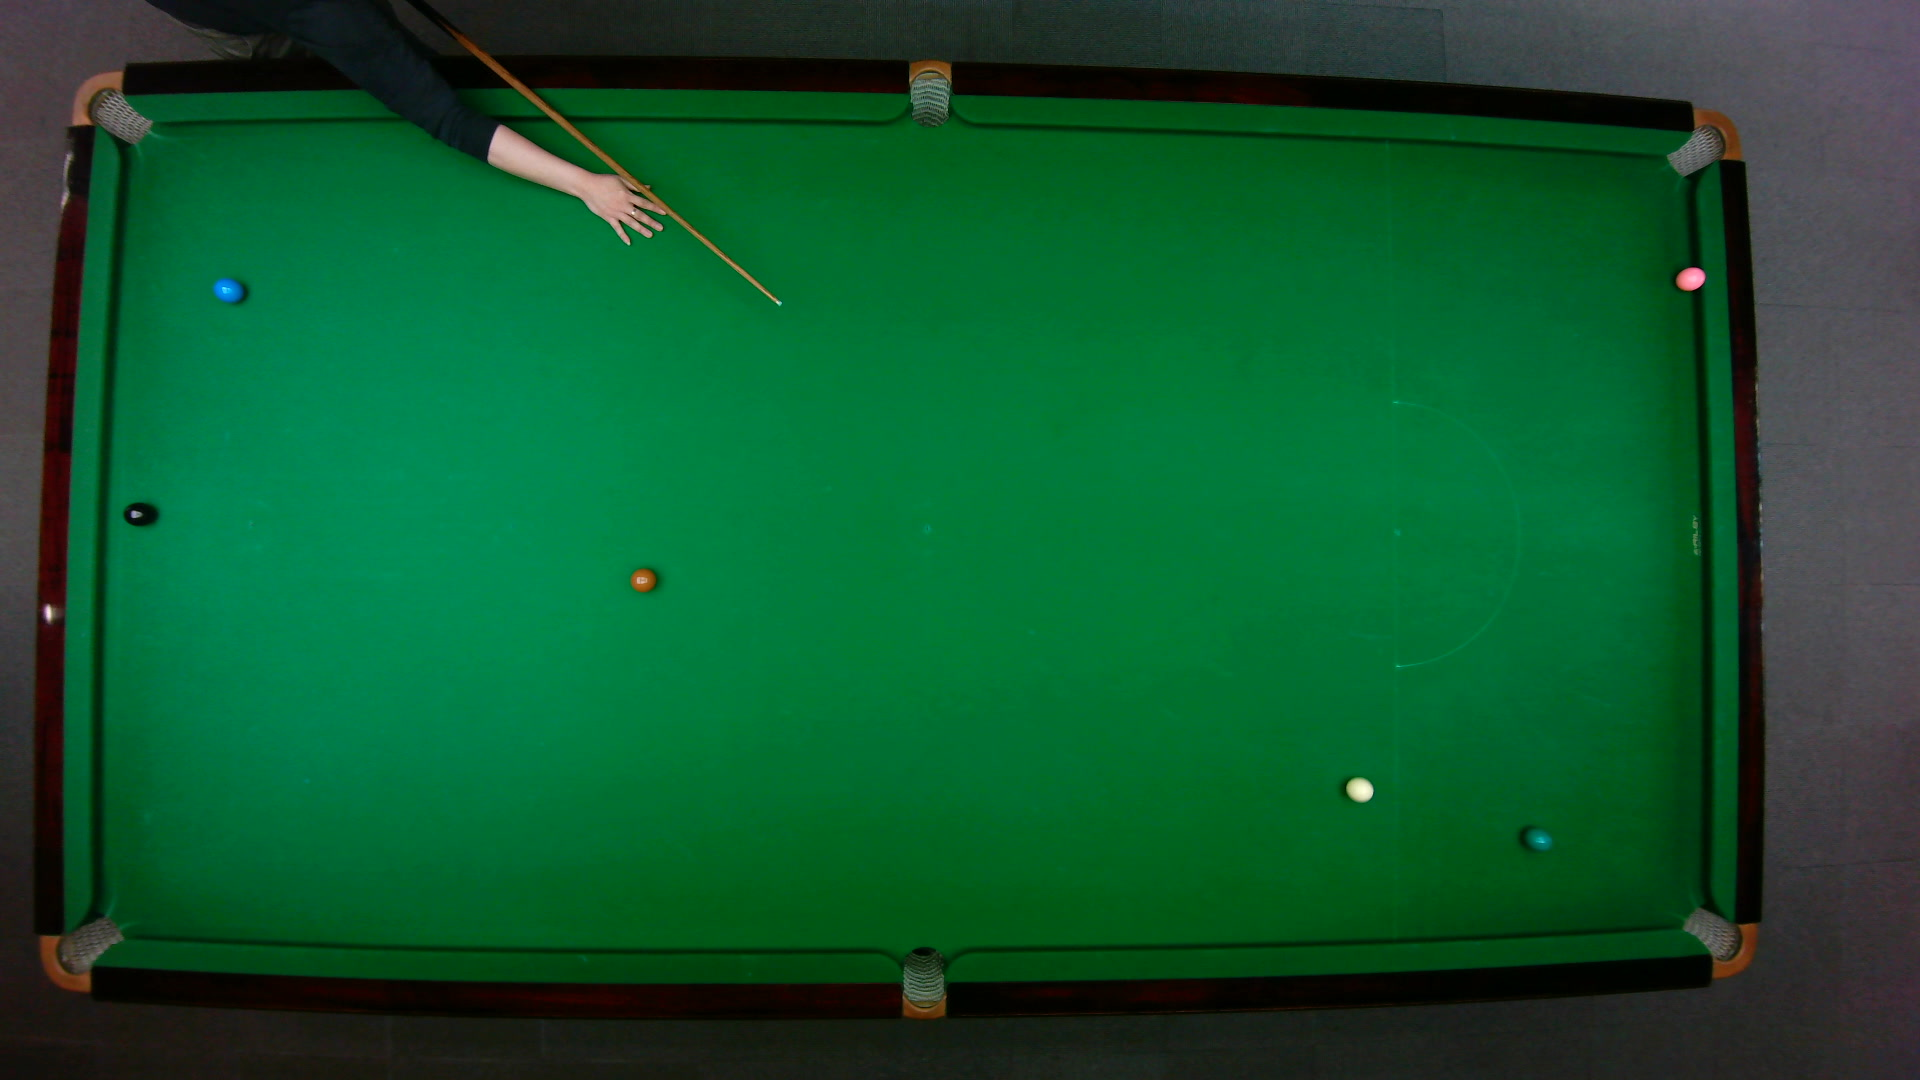bag: (38, 914, 125, 992), (69, 69, 153, 145), (1677, 905, 1756, 978), (1663, 107, 1741, 177), (901, 944, 944, 1021), (909, 57, 949, 128)
black: (121, 500, 154, 526)
blue: (211, 276, 244, 305)
brown: (629, 566, 655, 593)
cue: (410, 0, 783, 313)
green: (1520, 825, 1553, 852)
pink: (1673, 264, 1706, 291)
white: (1342, 775, 1374, 802)
zone: (1390, 400, 1519, 669)
